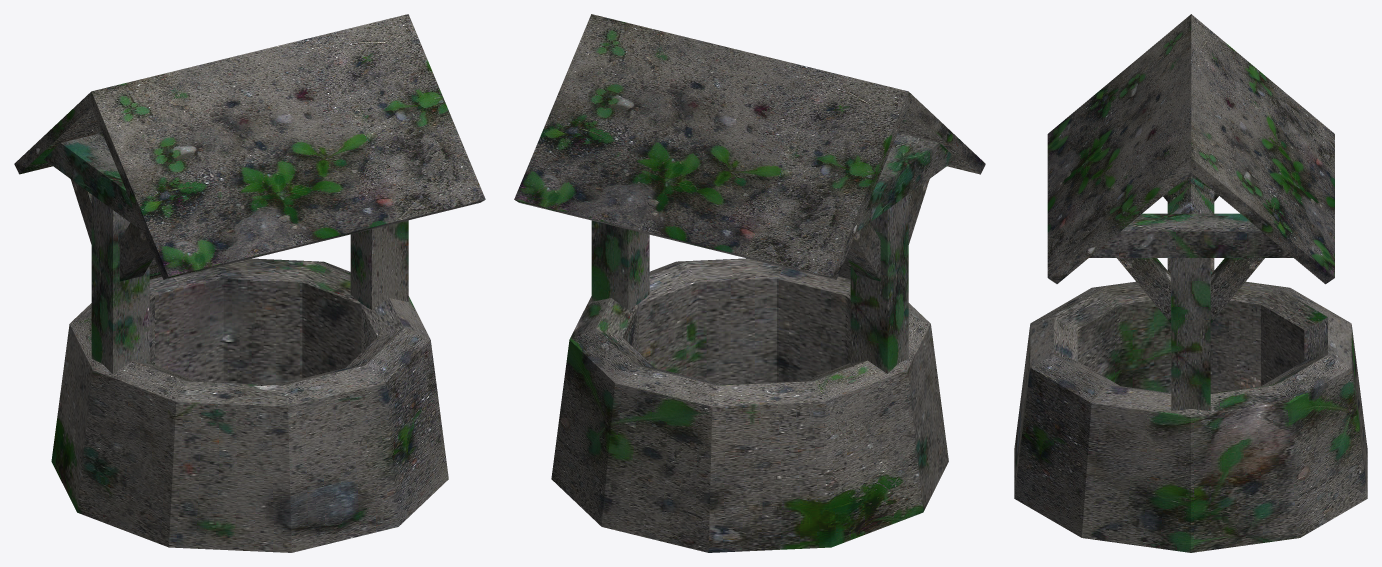
The model's file is well.obj.
3 renders of one model, left to right at view 1: azimuth 30°, elevation 25°; view 2: azimuth 150°, elevation 25°; view 3: azimuth 270°, elevation 25°, orthographic. The views are drawn at different scales.
Visible parts, largest first — view 1: Mesh_CoveredWell_Cube.008; view 2: Mesh_CoveredWell_Cube.008; view 3: Mesh_CoveredWell_Cube.008.
Boxes of the visible parts, x1,y1,x2,y2 form: Mesh_CoveredWell_Cube.008: (14,14,485,552); Mesh_CoveredWell_Cube.008: (514,14,985,552); Mesh_CoveredWell_Cube.008: (1014,14,1367,552).
Size of the model in its own units: 0.1946 by 0.2244 by 0.1851.
1 material, 1 textured.
